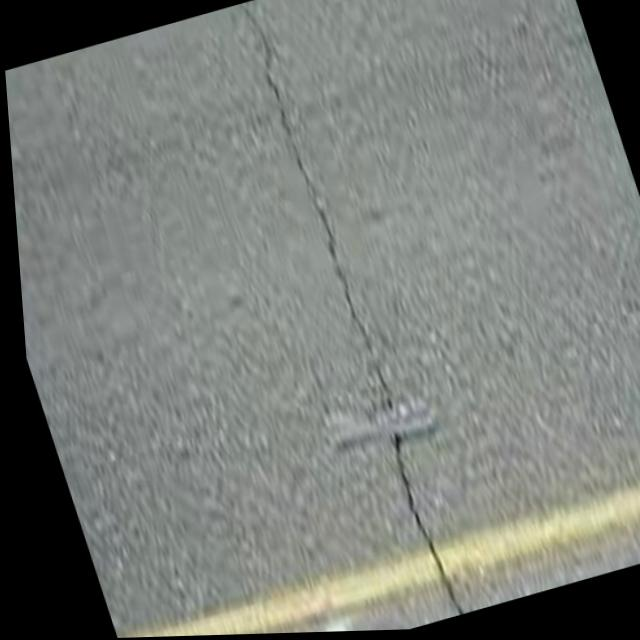Crack: (211, 0, 481, 633)
